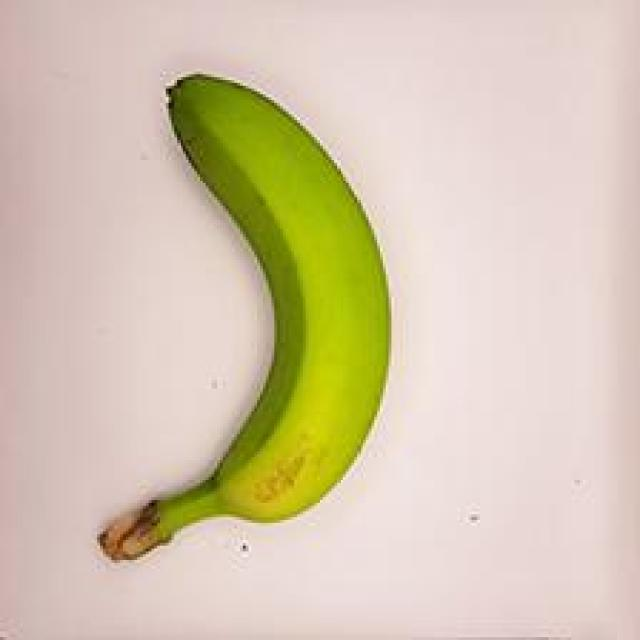Unripe: (92, 62, 404, 586)
